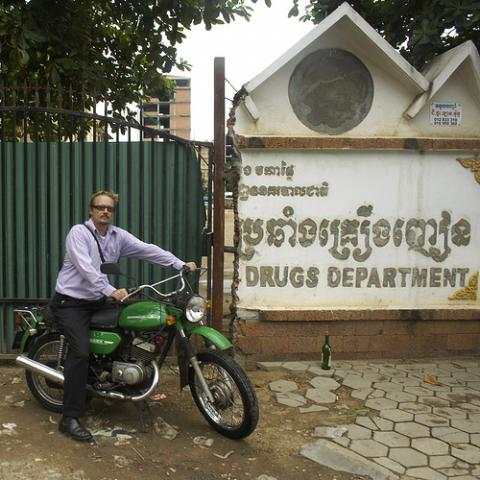motorcycle: (13, 261, 260, 439)
